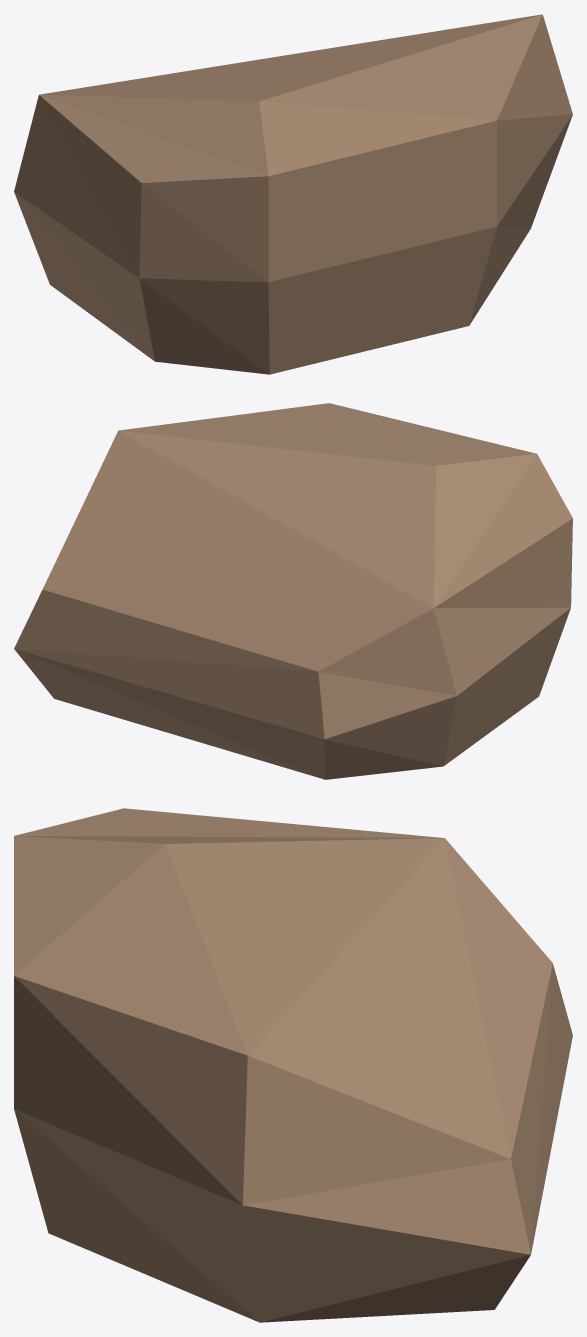
The model's file is TB_Env_Stone1_E.FBX.
3 renders of one model, top to bottom at view 1: azimuth 30°, elevation 25°; view 2: azimuth 150°, elevation 25°; view 3: azimuth 270°, elevation 25°, orthographic. The views are drawn at different scales.
Visible parts, largest first — view 1: TB_Env_Stone1_E; view 2: TB_Env_Stone1_E; view 3: TB_Env_Stone1_E.
Part boxes in pixels (x1,y1,x2,y2): TB_Env_Stone1_E: [14, 14, 572, 374]; TB_Env_Stone1_E: [14, 403, 572, 779]; TB_Env_Stone1_E: [14, 808, 572, 1322].
Bounding box in the file's own units: 0.6569 × 0.3022 × 0.5293.
